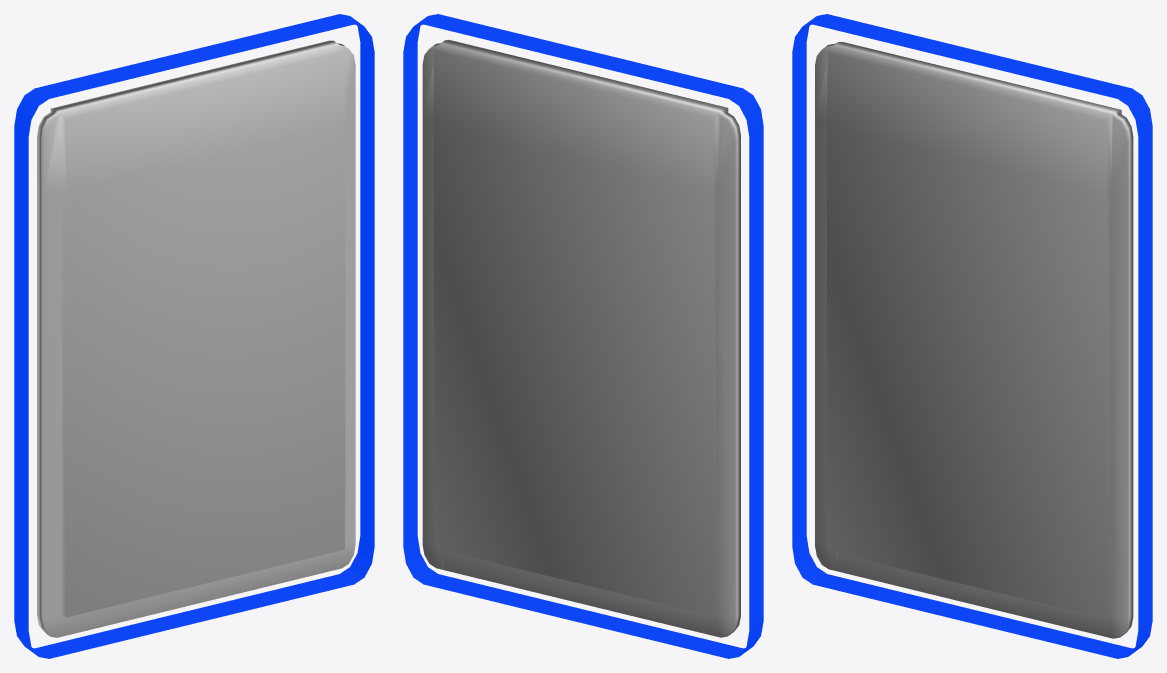
File: spiderman.glb
3 renders of one model, left to right at view 1: azimuth 30°, elevation 25°; view 2: azimuth 150°, elevation 25°; view 3: azimuth 330°, elevation 25°, orthographic.
Parts seen in each view (by area): view 1: Cube, Cube.001; view 2: Cube, Cube.001; view 3: Cube, Cube.001.
Boxes of the visible parts, x1=… form: Cube: x1=37, y1=40, x2=355, y2=637; Cube.001: x1=14, y1=14, x2=374, y2=658; Cube: x1=422, y1=40, x2=740, y2=637; Cube.001: x1=403, y1=14, x2=763, y2=658; Cube: x1=815, y1=42, x2=1133, y2=638; Cube.001: x1=792, y1=14, x2=1152, y2=658.
Size of the model in its own units: 1.4 by 2.17 by 0.116.
